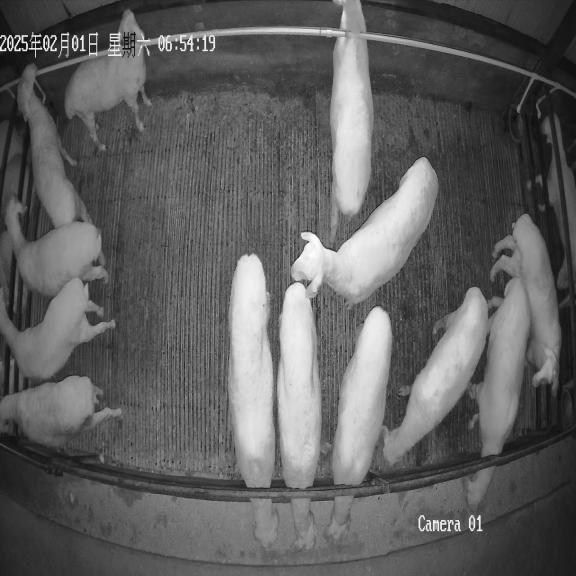eating: (463, 277, 530, 508), (327, 306, 392, 540), (228, 254, 278, 547), (277, 280, 322, 550)
stand: (291, 157, 438, 309), (382, 287, 488, 465), (490, 214, 561, 395), (64, 10, 152, 152), (17, 64, 91, 228), (0, 278, 115, 380), (329, 0, 374, 242), (0, 198, 107, 298), (0, 376, 122, 447)
